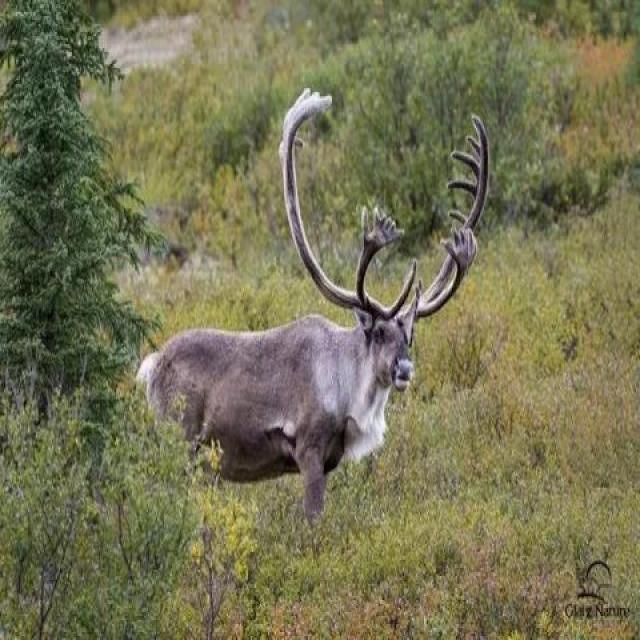deer: (96, 40, 512, 508)
